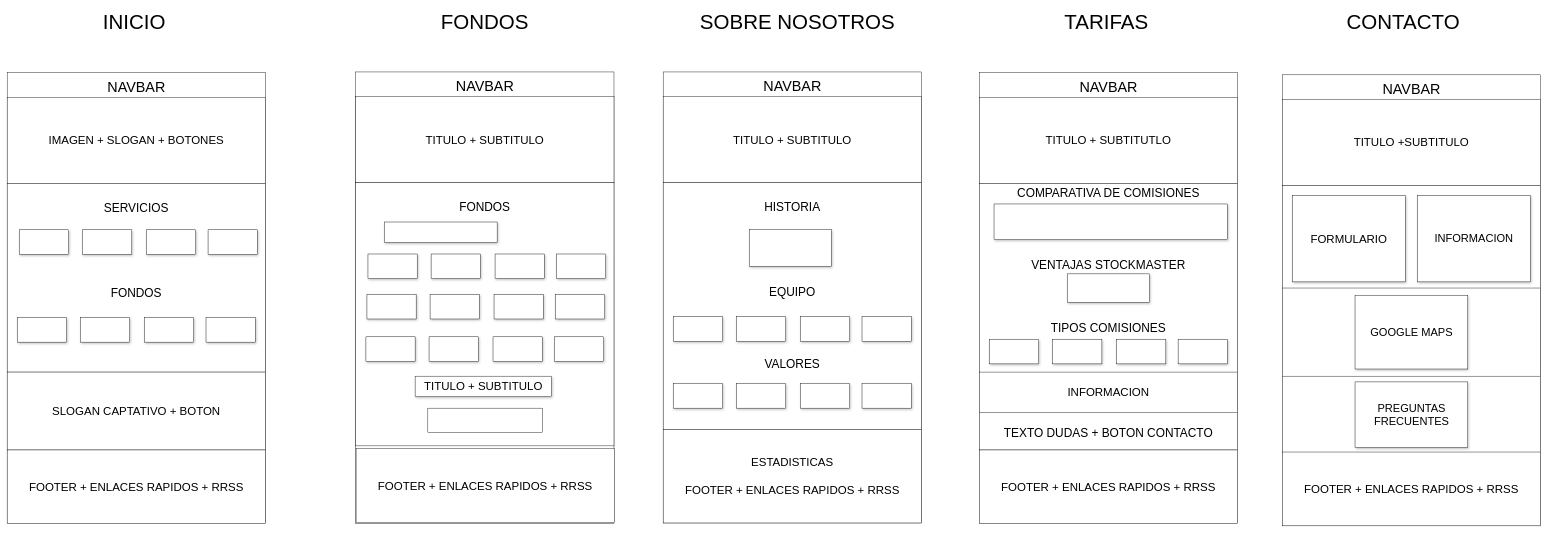
This 1548x533 diagram has some shape labels left out. The centre of each missing label's shape, as x and y in pixels:
"BOTON ASESORIA" goes at [485,420].
"FILTROS POR TIPO" goes at [441,232].
